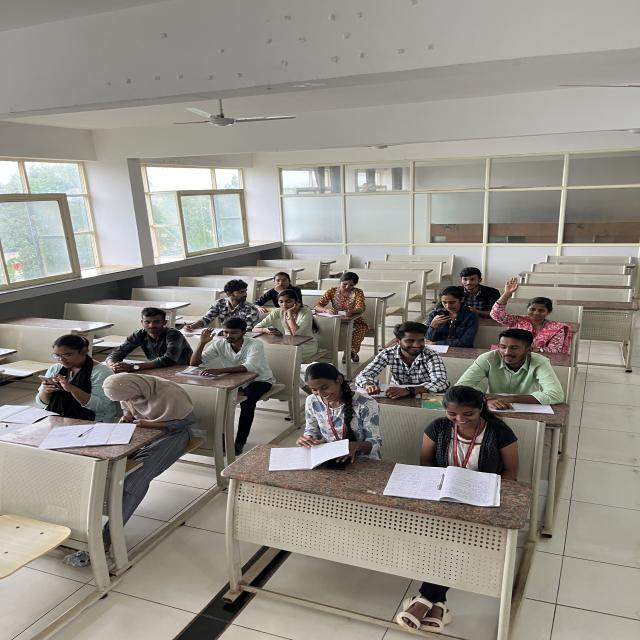Hand Rising: (492, 273, 566, 341), (187, 320, 260, 375)
Reading: (410, 381, 510, 493), (316, 270, 368, 322)
Using Phone: (101, 368, 191, 423), (36, 332, 100, 405), (423, 282, 475, 342), (256, 291, 313, 341), (457, 266, 501, 318)
Writing: (354, 319, 450, 396)
